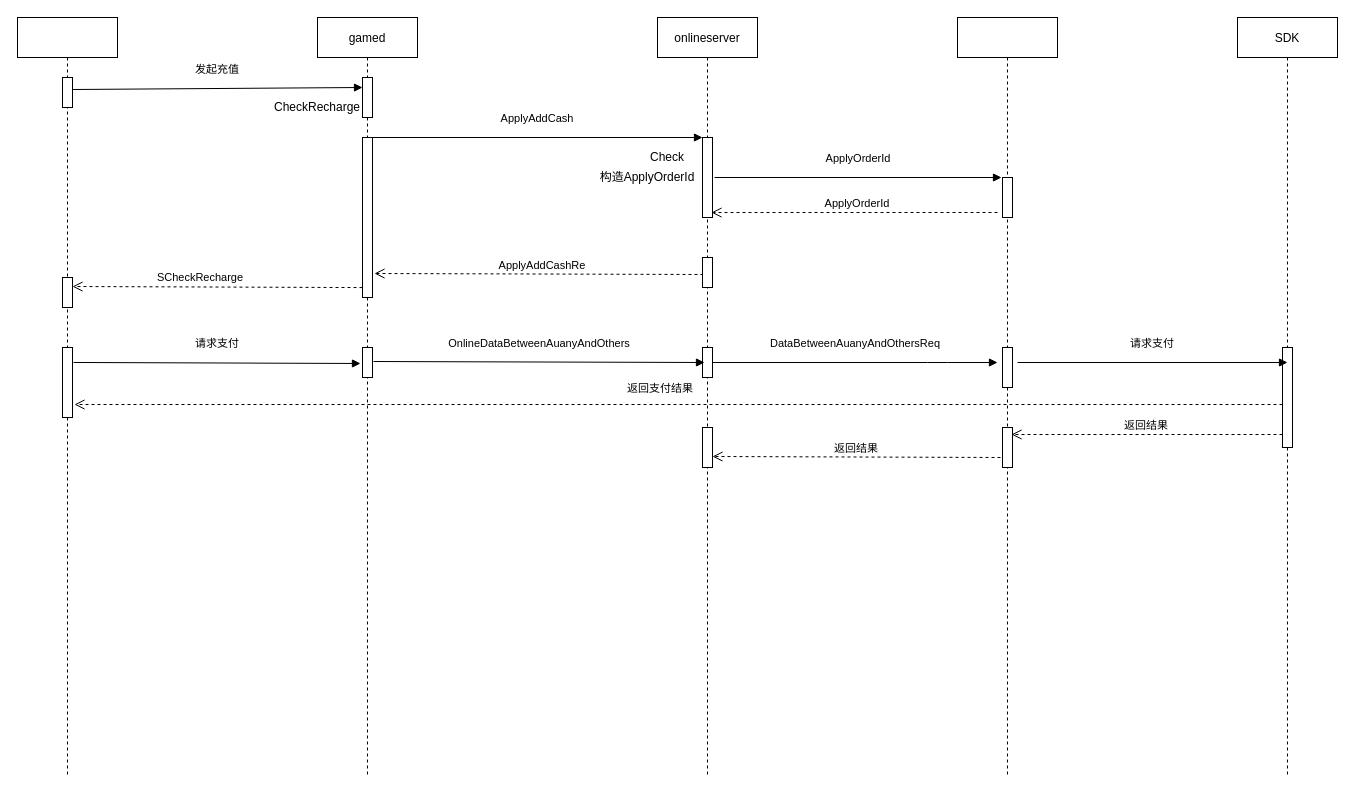
Some shapes in this 1355 by 795 pixel diagram are drawn without their labels. Here are the shapes that lost their labels. From the top down, the centre of each, then its label:
(67,397): client
(1007,397): Auany
